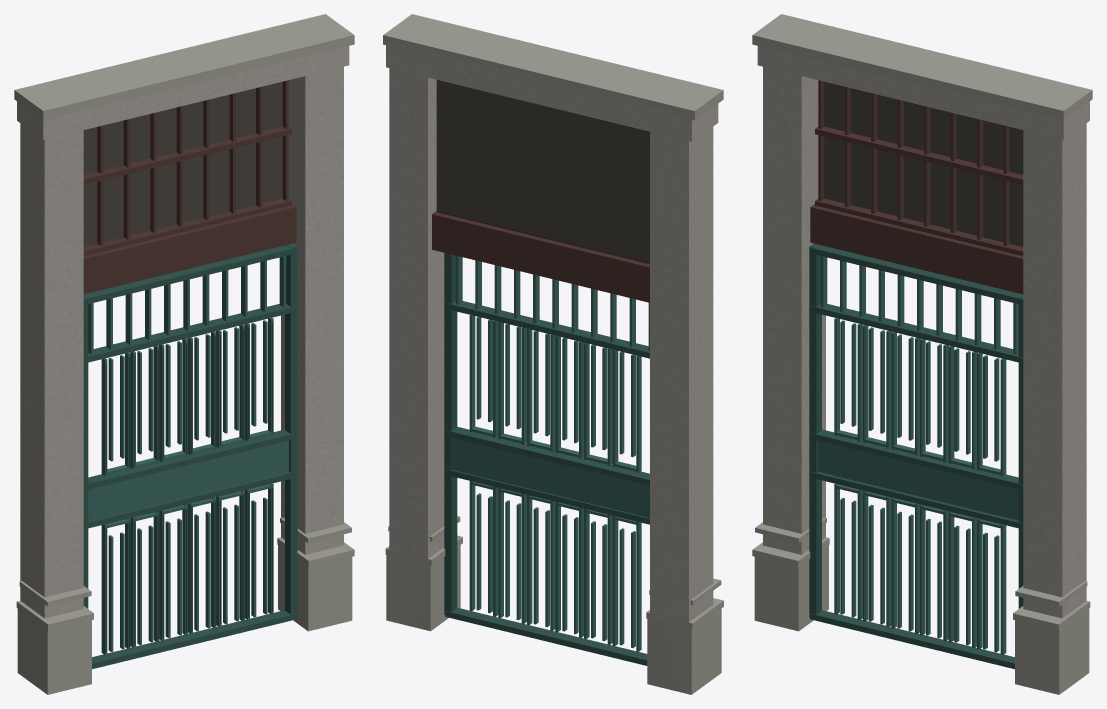
Rendered from huangpu-shanghai-bank-beijing-205-grille-raw.glb.
3 views of the same model, side by side, from view 1: azimuth 30°, elevation 25°; view 2: azimuth 150°, elevation 25°; view 3: azimuth 330°, elevation 25° (orthographic).
Visible parts, largest first — view 1: 上海银行旧楼北京东路205号几何铁格门与上亮窗; view 2: 上海银行旧楼北京东路205号几何铁格门与上亮窗; view 3: 上海银行旧楼北京东路205号几何铁格门与上亮窗.
Part boxes in pixels (x1=…): 上海银行旧楼北京东路205号几何铁格门与上亮窗: x1=14, y1=14, x2=354, y2=694; 上海银行旧楼北京东路205号几何铁格门与上亮窗: x1=383, y1=14, x2=723, y2=694; 上海银行旧楼北京东路205号几何铁格门与上亮窗: x1=752, y1=14, x2=1092, y2=694.
Bounding box in the file's own units: 2.07 × 3.71 × 0.361.
Materials: 6 (1 with a texture image).
